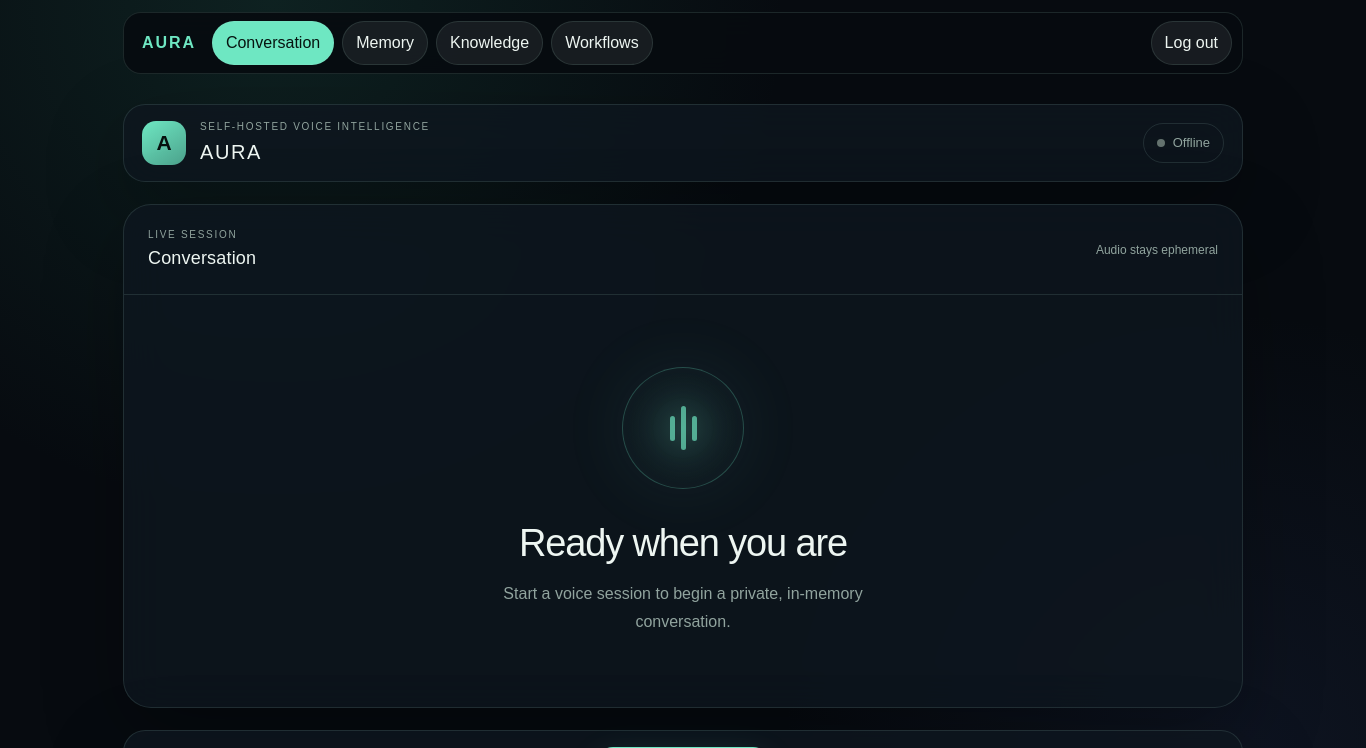
AuthExperience › opens the authenticated workflow management surface from navigation
This screenshot has width=1366, height=748.
Click the button "Workflows". click: (602, 43)
box: [551, 21, 653, 65]
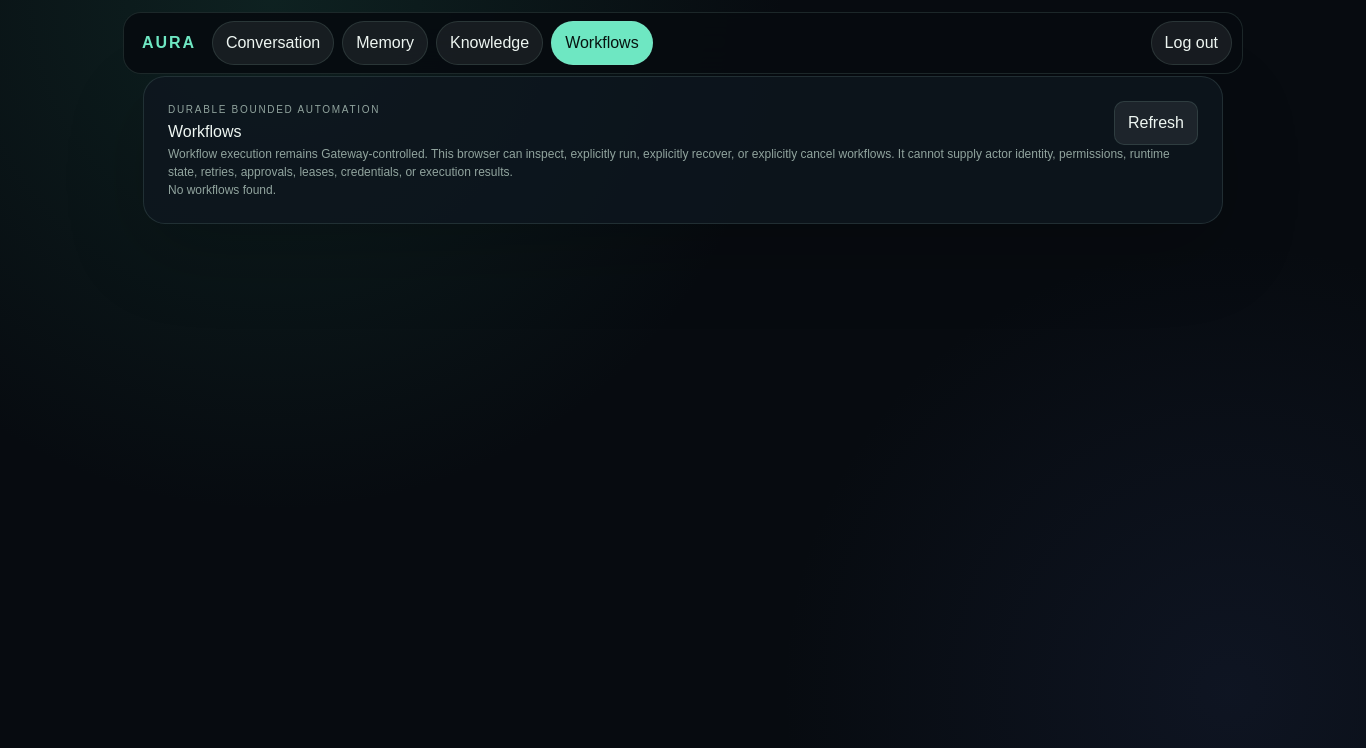
Expected: the heading "Workflows" is shown, [168, 123, 242, 140]
